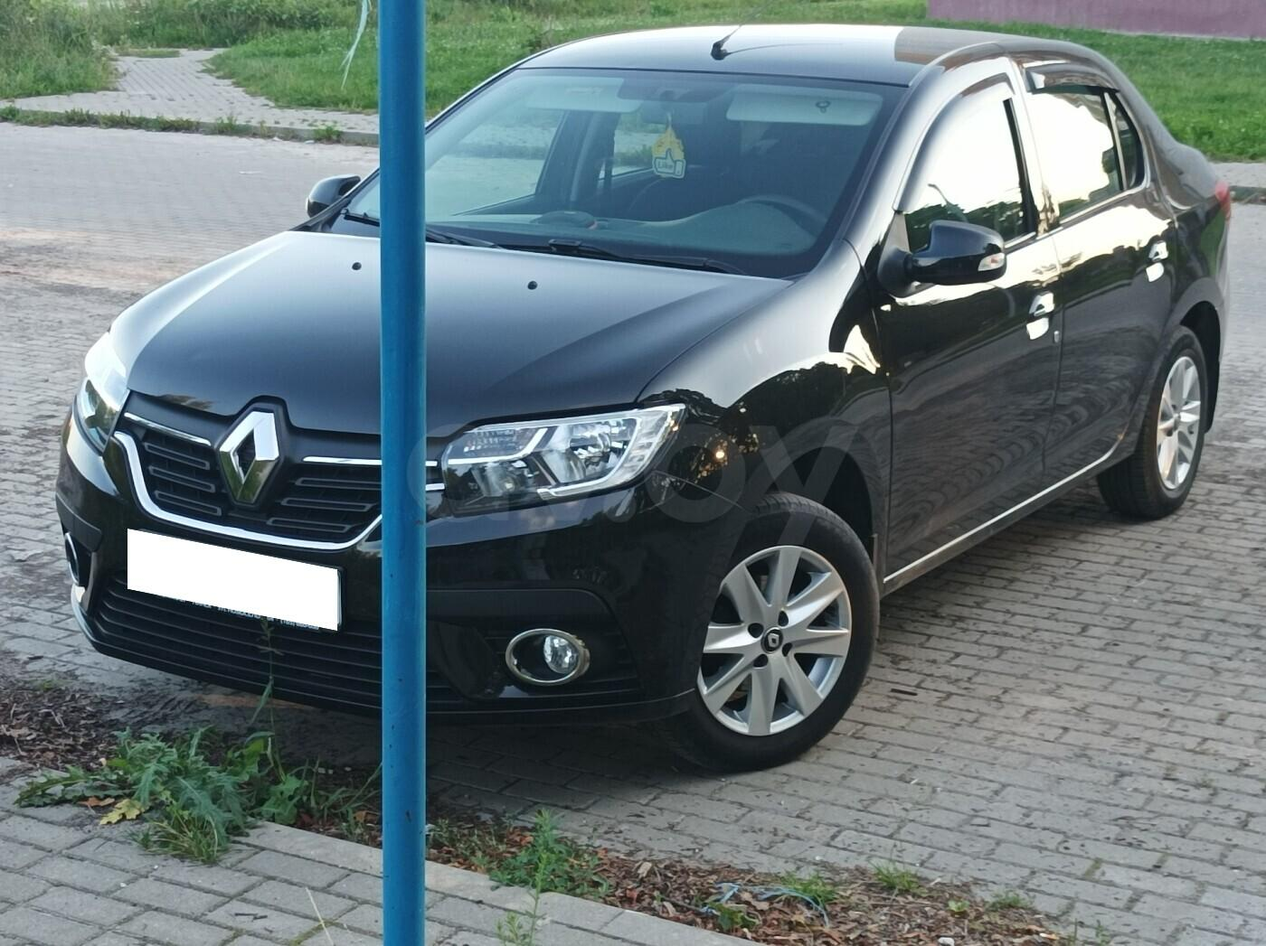Logan_2018: (54, 22, 1239, 772)
